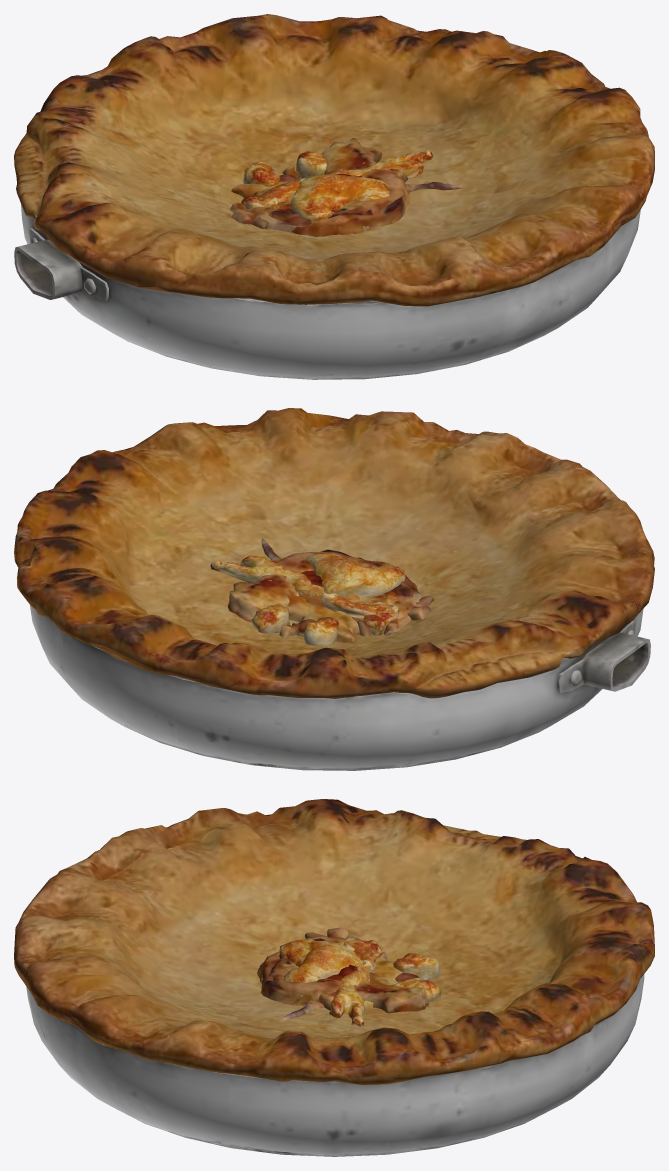
Rendered from food_pie_generic.entity.glb.
The picture shows the model from 3 angles, top to bottom: view 1: azimuth 30°, elevation 25°; view 2: azimuth 150°, elevation 25°; view 3: azimuth 270°, elevation 25°; orthographic projection.
Parts seen in each view (by area): view 1: Pies_Top_Crust_LOD0, Pie_Frying_Pan_LOD0, Pie_Top_Crust_Big_Cat_LOD0, Pie_Top_Crust_Chicken_LOD0, Pie_Top_Crust_Apple_LOD0, Pie_Top_Crust_Crocodile_LOD0, Pie_Top_Crust_Pumpkin_LOD0; view 2: Pies_Top_Crust_LOD0, Pie_Frying_Pan_LOD0, Pie_Top_Crust_Big_Cat_LOD0, Pie_Top_Crust_Chicken_LOD0, Pie_Top_Crust_Crocodile_LOD0, Pie_Top_Crust_Apple_LOD0, Pie_Top_Crust_Fish_LOD0; view 3: Pies_Top_Crust_LOD0, Pie_Frying_Pan_LOD0, Pie_Top_Crust_Big_Cat_LOD0, Pie_Top_Crust_Chicken_LOD0, Pie_Top_Crust_Crocodile_LOD0, Pie_Top_Crust_Apple_LOD0, Pie_Top_Crust_Fish_LOD0.
Boxes of the visible parts, <box> form: Pies_Top_Crust_LOD0: <box>14,14,654,306</box>; Pie_Frying_Pan_LOD0: <box>14,204,640,379</box>; Pie_Top_Crust_Big_Cat_LOD0: <box>241,151,389,223</box>; Pie_Top_Crust_Chicken_LOD0: <box>230,138,410,236</box>; Pie_Top_Crust_Apple_LOD0: <box>231,165,405,236</box>; Pie_Top_Crust_Crocodile_LOD0: <box>258,149,433,209</box>; Pie_Top_Crust_Pumpkin_LOD0: <box>246,177,409,232</box>; Pies_Top_Crust_LOD0: <box>14,408,654,698</box>; Pie_Frying_Pan_LOD0: <box>30,605,650,770</box>; Pie_Top_Crust_Big_Cat_LOD0: <box>251,552,405,645</box>; Pie_Top_Crust_Chicken_LOD0: <box>228,552,414,633</box>; Pie_Top_Crust_Crocodile_LOD0: <box>210,555,399,617</box>; Pie_Top_Crust_Apple_LOD0: <box>279,549,417,643</box>; Pie_Top_Crust_Fish_LOD0: <box>270,559,433,635</box>; Pies_Top_Crust_LOD0: <box>14,799,654,1084</box>; Pie_Frying_Pan_LOD0: <box>26,974,644,1156</box>; Pie_Top_Crust_Big_Cat_LOD0: <box>279,936,441,1008</box>; Pie_Top_Crust_Chicken_LOD0: <box>268,938,429,1013</box>; Pie_Top_Crust_Crocodile_LOD0: <box>329,941,376,1026</box>; Pie_Top_Crust_Apple_LOD0: <box>257,951,402,1000</box>; Pie_Top_Crust_Fish_LOD0: <box>305,932,376,1010</box>.
Size of the model in its own units: 0.2443 by 0.0556 by 0.234.
Materials: 3 (3 with a texture image).
